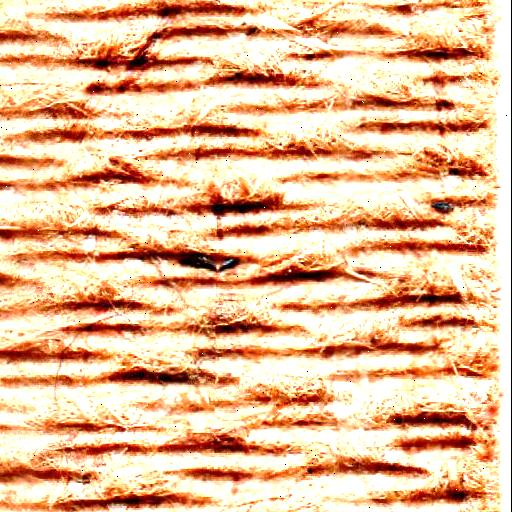egg: (156, 366, 186, 392), (427, 196, 458, 218), (117, 366, 144, 384), (179, 251, 195, 280), (88, 53, 111, 73), (130, 52, 150, 74), (220, 256, 239, 276), (199, 257, 214, 274)
